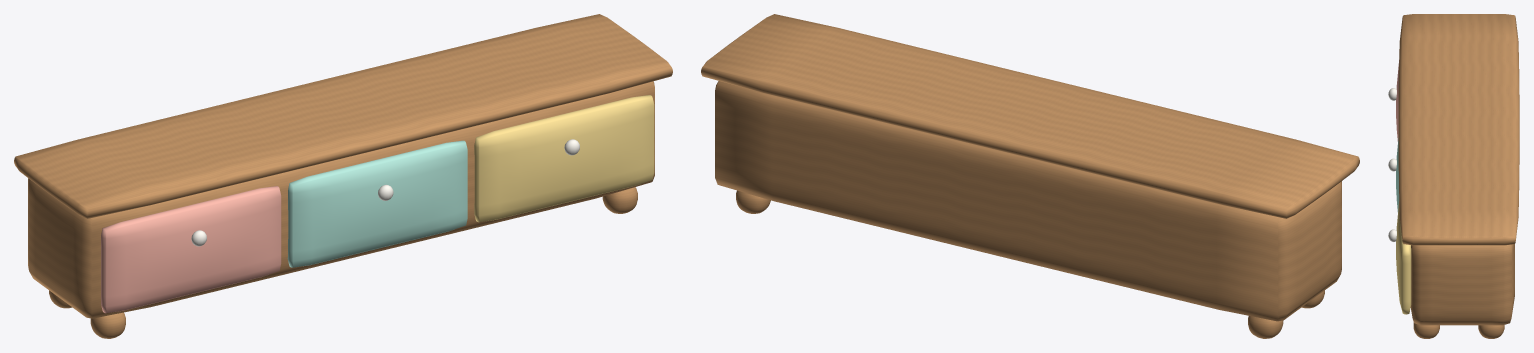
Rendered from 卡通电视柜.glb.
3 renders of one model, left to right at view 1: azimuth 30°, elevation 25°; view 2: azimuth 150°, elevation 25°; view 3: azimuth 270°, elevation 25°, orthographic. The views are drawn at different scales.
Parts seen in each view (by area): view 1: TVStandCartoon_Body, TVStandCartoon_Doors, TVStandCartoon_Knobs; view 2: TVStandCartoon_Body; view 3: TVStandCartoon_Body, TVStandCartoon_Doors, TVStandCartoon_Knobs.
Boxes of the visible parts, <box> form: TVStandCartoon_Body: <box>14,14,672,338</box>; TVStandCartoon_Doors: <box>101,95,654,313</box>; TVStandCartoon_Knobs: <box>191,139,579,246</box>; TVStandCartoon_Body: <box>701,14,1359,338</box>; TVStandCartoon_Body: <box>1398,14,1519,338</box>; TVStandCartoon_Doors: <box>1396,60,1411,314</box>; TVStandCartoon_Knobs: <box>1388,88,1396,241</box>.
Size of what is drawn, in the model's own units: 1.81 by 0.4396 by 0.4463.
Materials: 5 (1 with a texture image).
